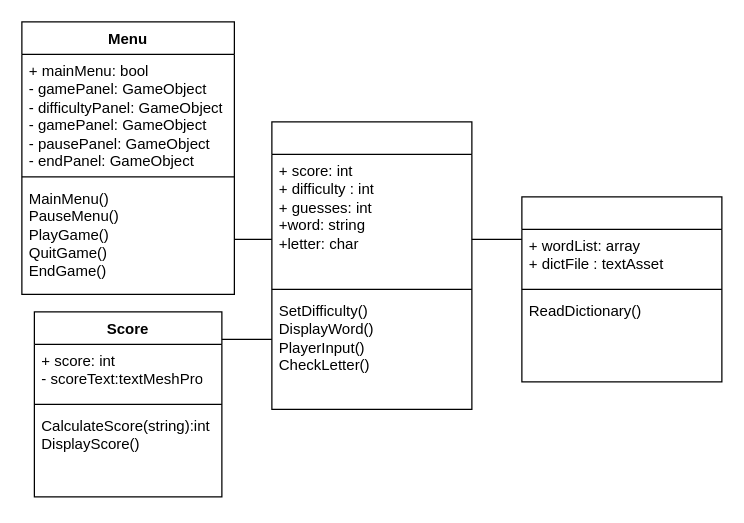
The diagram is 744 pixels wide and 523 high, and some of its shapes have lost their labels. The shapes that lost their labels are listed below. From the top down, each one's box as (x1, y1, x2, y2) in pixels, then its label:
(271, 121, 472, 409): GameManager
(521, 196, 722, 382): DictLoad
